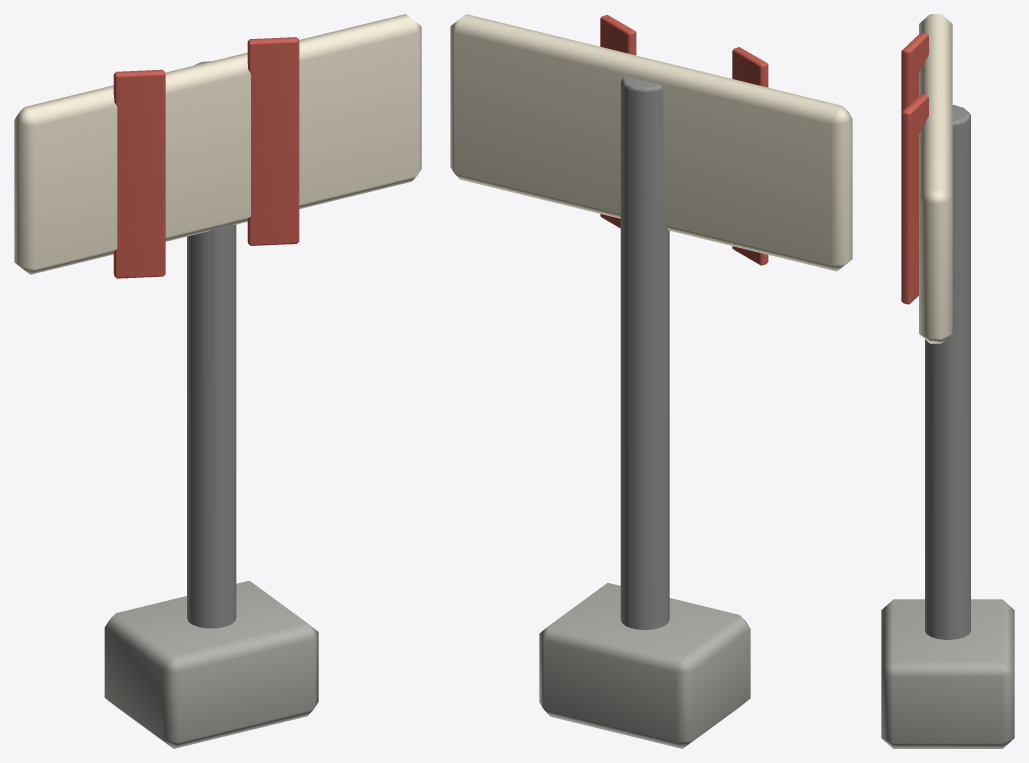
The model's file is MYB96_HairpinChevronSign.fbx.
3 views of the same model, side by side, from view 1: azimuth 30°, elevation 25°; view 2: azimuth 150°, elevation 25°; view 3: azimuth 270°, elevation 25° (orthographic). The views are drawn at different scales.
Visible parts, largest first — view 1: board, base_stone, post, slash_b, slash_a; view 2: board, post, base_stone, slash_a, slash_b; view 3: post, base_stone, board, slash_b, slash_a.
Boxes of the visible parts, <box> form: board: <box>14,14,421,274</box>; base_stone: <box>104,580,318,748</box>; post: <box>187,61,236,628</box>; slash_b: <box>247,37,299,245</box>; slash_a: <box>113,69,165,278</box>; board: <box>450,14,852,271</box>; post: <box>620,76,669,629</box>; base_stone: <box>539,583,750,748</box>; slash_a: <box>732,47,768,265</box>; slash_b: <box>600,14,636,228</box>; post: <box>925,105,970,639</box>; base_stone: <box>881,599,1014,748</box>; board: <box>919,14,952,343</box>; slash_b: <box>901,94,928,304</box>; slash_a: <box>901,32,928,112</box>.
Size of the model in its own units: 72 by 116 by 22.
